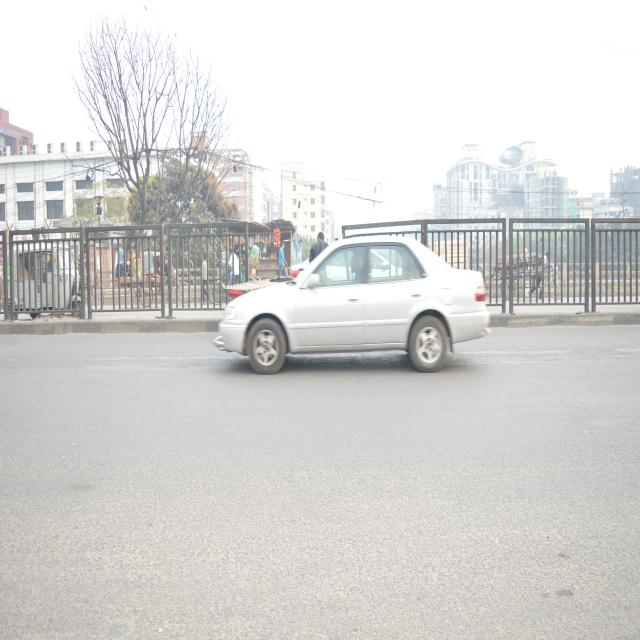car: (212, 231, 496, 403)
